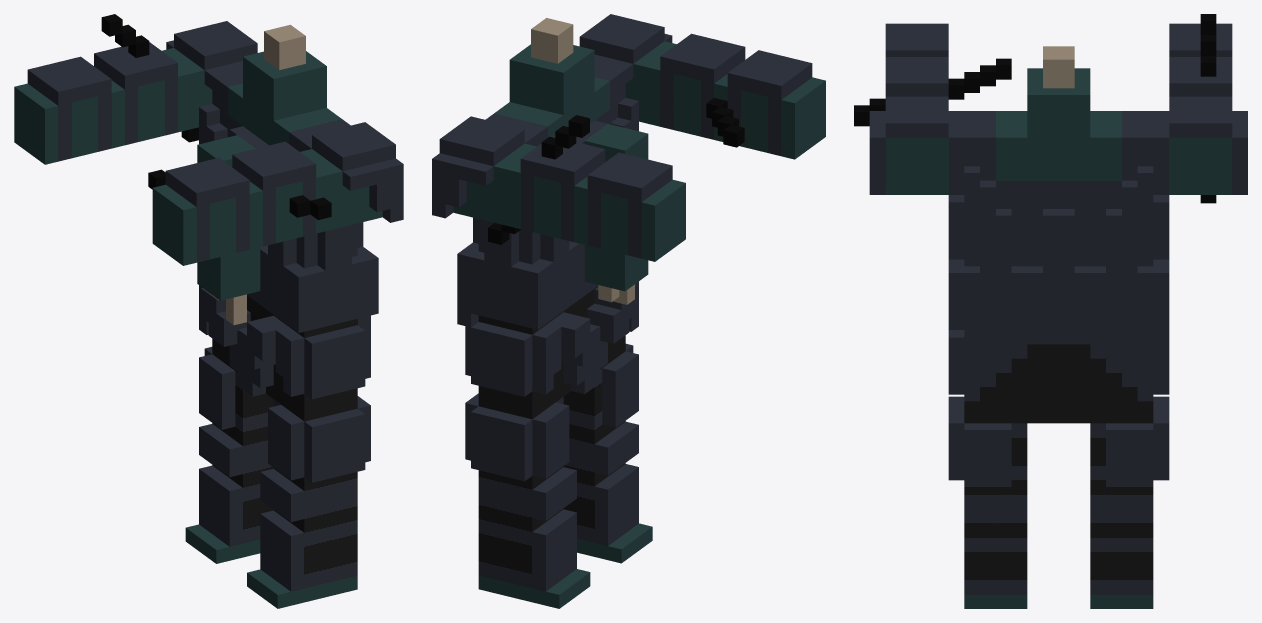
Rendered from special_zombie_guard.fbx.
The picture shows the model from 3 angles, left to right: view 1: azimuth 30°, elevation 25°; view 2: azimuth 150°, elevation 25°; view 3: azimuth 270°, elevation 25°; orthographic projection. The views are drawn at different scales.
Parts seen in each view (by area): view 1: special_zombie_guard.special_zombie_guard_stand; view 2: special_zombie_guard.special_zombie_guard_stand; view 3: special_zombie_guard.special_zombie_guard_stand.
Boxes of the visible parts, left/top/right/bottom form: special_zombie_guard.special_zombie_guard_stand: left=14, top=14, right=403, bottom=608; special_zombie_guard.special_zombie_guard_stand: left=432, top=14, right=825, bottom=608; special_zombie_guard.special_zombie_guard_stand: left=854, top=14, right=1247, bottom=608.
Bounding box in the file's own units: 1.7 × 3.8 × 2.5.
Materials: 1 (1 with a texture image).
